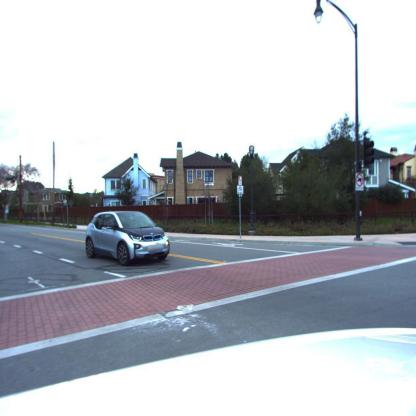car: (86, 211, 172, 266)
traffic light: (362, 138, 374, 166)
